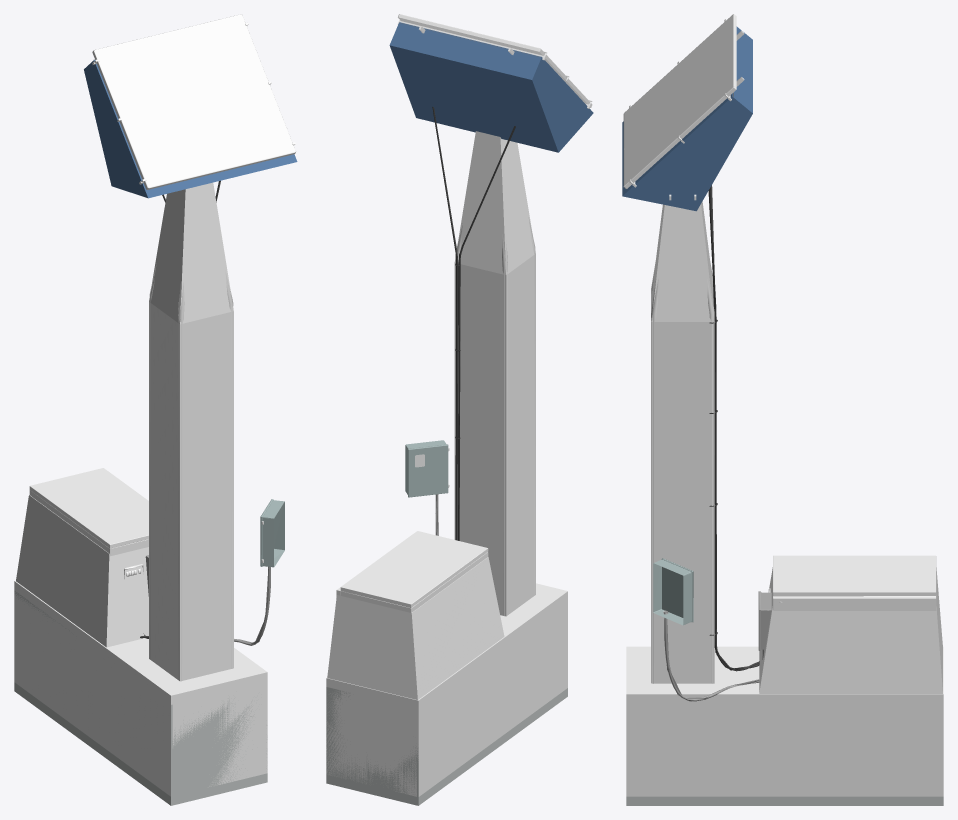
File: si_res_solar_panel_tall.dae
The picture shows the model from 3 angles, left to right: view 1: azimuth 30°, elevation 25°; view 2: azimuth 150°, elevation 25°; view 3: azimuth 270°, elevation 25°; orthographic projection. The views are drawn at different scales.
Visible parts, largest first — view 1: Colmesh_si_res_solar_panel_tall-1, si_res_solar_panel_tall_a900, si_res_solar_panel_tall_a120, si_res_solar_panel_tall_a20; view 2: Colmesh_si_res_solar_panel_tall-1, si_res_solar_panel_tall_a120, si_res_solar_panel_tall_a900, si_res_solar_panel_tall_a20; view 3: si_res_solar_panel_tall_a900, Colmesh_si_res_solar_panel_tall-1, si_res_solar_panel_tall_a120, si_res_solar_panel_tall_a20.
Part boxes in pixels (<box>): Colmesh_si_res_solar_panel_tall-1: <box>14,60,233,804</box>; si_res_solar_panel_tall_a900: <box>15,14,295,787</box>; si_res_solar_panel_tall_a120: <box>14,33,295,796</box>; si_res_solar_panel_tall_a20: <box>14,59,297,805</box>; Colmesh_si_res_solar_panel_tall-1: <box>326,22,593,805</box>; si_res_solar_panel_tall_a120: <box>326,14,567,796</box>; si_res_solar_panel_tall_a900: <box>336,14,592,796</box>; si_res_solar_panel_tall_a20: <box>326,22,567,805</box>; si_res_solar_panel_tall_a900: <box>623,14,941,796</box>; Colmesh_si_res_solar_panel_tall-1: <box>622,26,943,805</box>; si_res_solar_panel_tall_a120: <box>623,14,943,796</box>; si_res_solar_panel_tall_a20: <box>622,93,943,805</box>.
Bounding box in the file's own units: 1.94 × 3.15 × 7.92.
